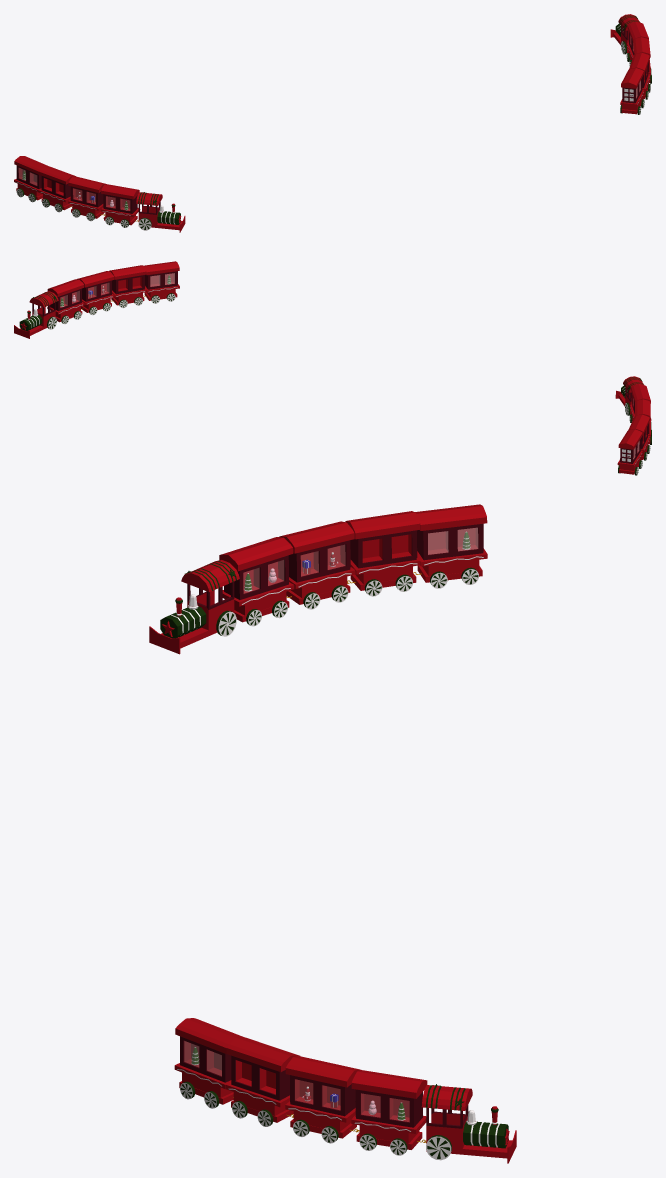
The model's file is train.glb.
3 renders of one model, top to bottom at view 1: azimuth 30°, elevation 25°; view 2: azimuth 150°, elevation 25°; view 3: azimuth 270°, elevation 25°, orthographic. The views are drawn at different scales.
Parts seen in each view (by area): view 1: Cylinder.010_Material.001_0.002; view 2: Cylinder.010_Material.001_0.002; view 3: Cylinder.010_Material.001_0.002.
Part boxes in pixels (x1=…): Cylinder.010_Material.001_0.002: x1=14, y1=14, x2=651, y2=232; Cylinder.010_Material.001_0.002: x1=14, y1=261, x2=651, y2=475; Cylinder.010_Material.001_0.002: x1=149, y1=504, x2=516, y2=1163.
Bounding box in the file's own units: 14.23 × 0.7952 × 3.7.
Materials: 12 (12 with a texture image).
